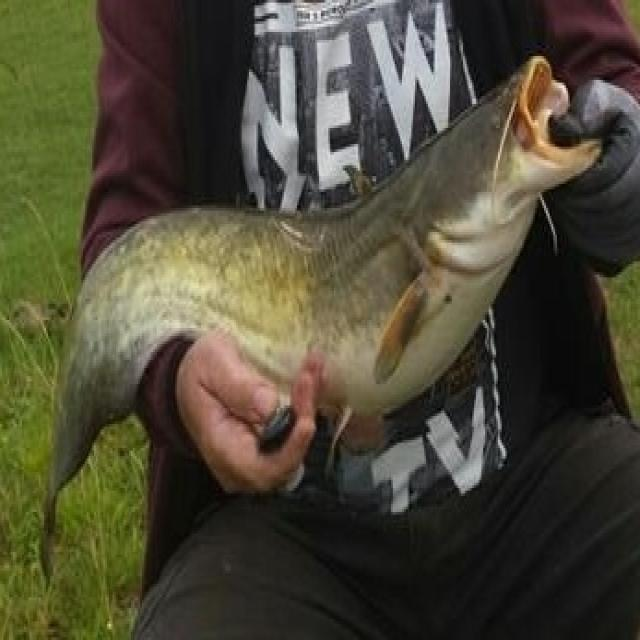Catfish: (37, 51, 604, 562)
